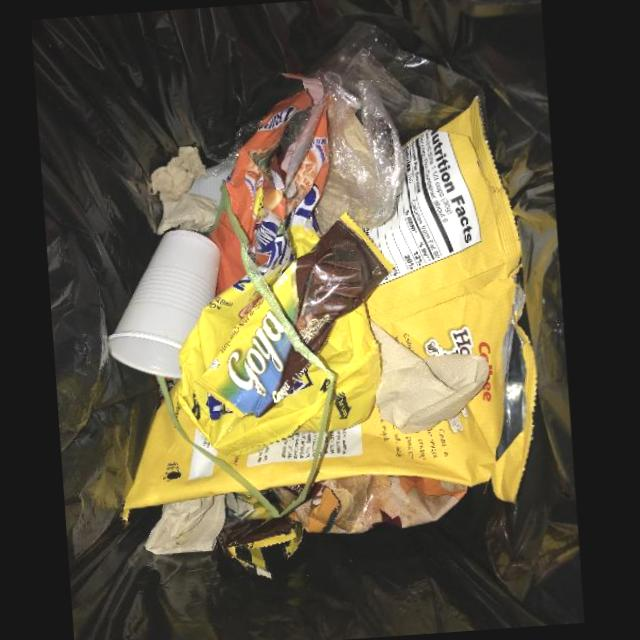bao_bi_thuc_pham: (120, 94, 535, 521), (178, 171, 382, 458), (196, 210, 394, 414), (207, 73, 331, 296), (272, 474, 466, 532), (217, 517, 303, 575)
giay: (368, 316, 489, 434), (149, 147, 219, 230), (143, 494, 229, 555)
hop_nhua: (106, 228, 220, 377)
tui_ni_long: (313, 70, 405, 234)
